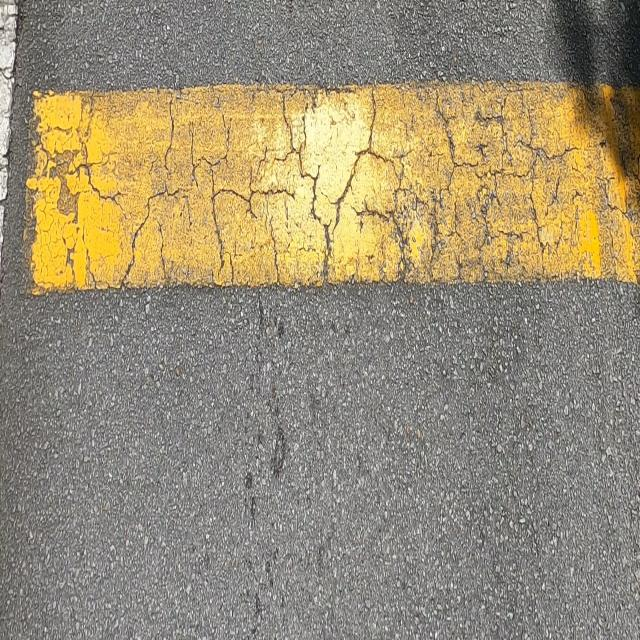Retak-Buaya: (114, 80, 584, 293)
